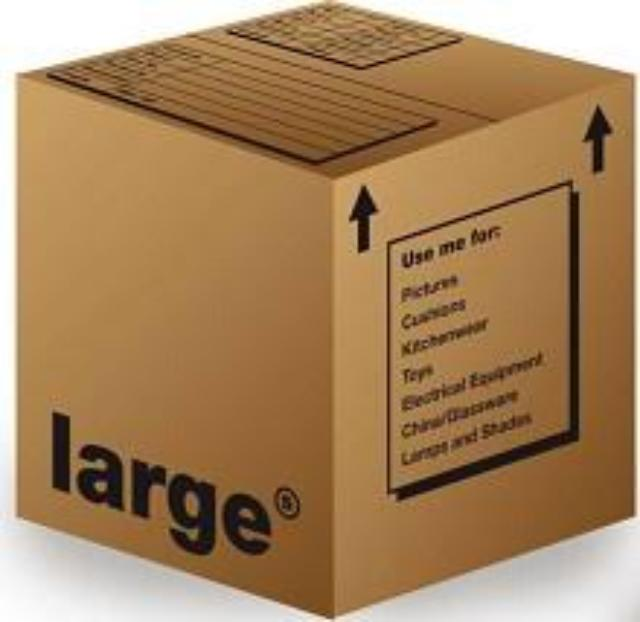cardboard paper: (20, 3, 631, 614)
